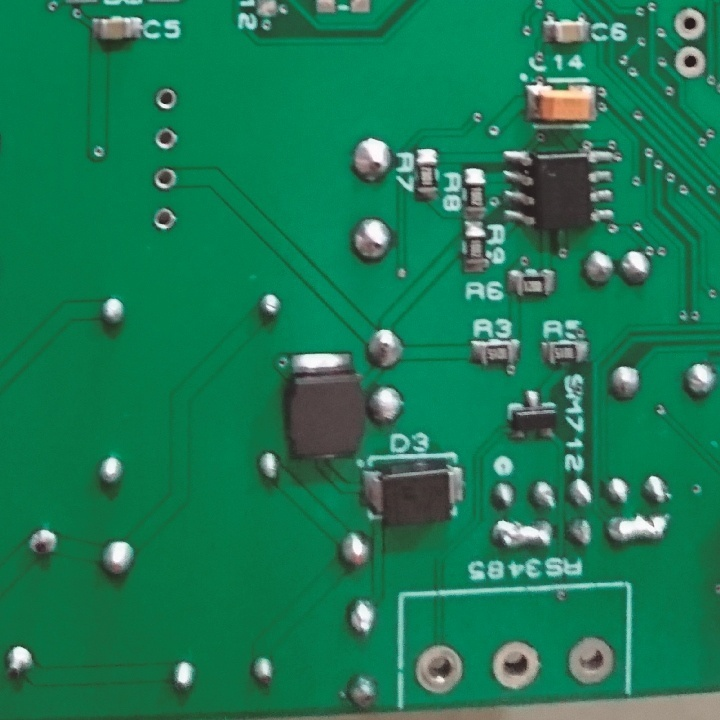F: (490, 638, 544, 692), (413, 642, 467, 695), (565, 635, 618, 687), (671, 44, 709, 82), (673, 6, 707, 41), (149, 163, 184, 194), (152, 204, 179, 234), (152, 83, 179, 112), (152, 124, 181, 151)
P: (604, 512, 673, 548), (489, 516, 554, 549)
